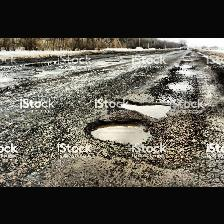pothole: (82, 116, 162, 148), (117, 98, 173, 118), (167, 79, 192, 90), (172, 67, 192, 73), (176, 62, 192, 66)
